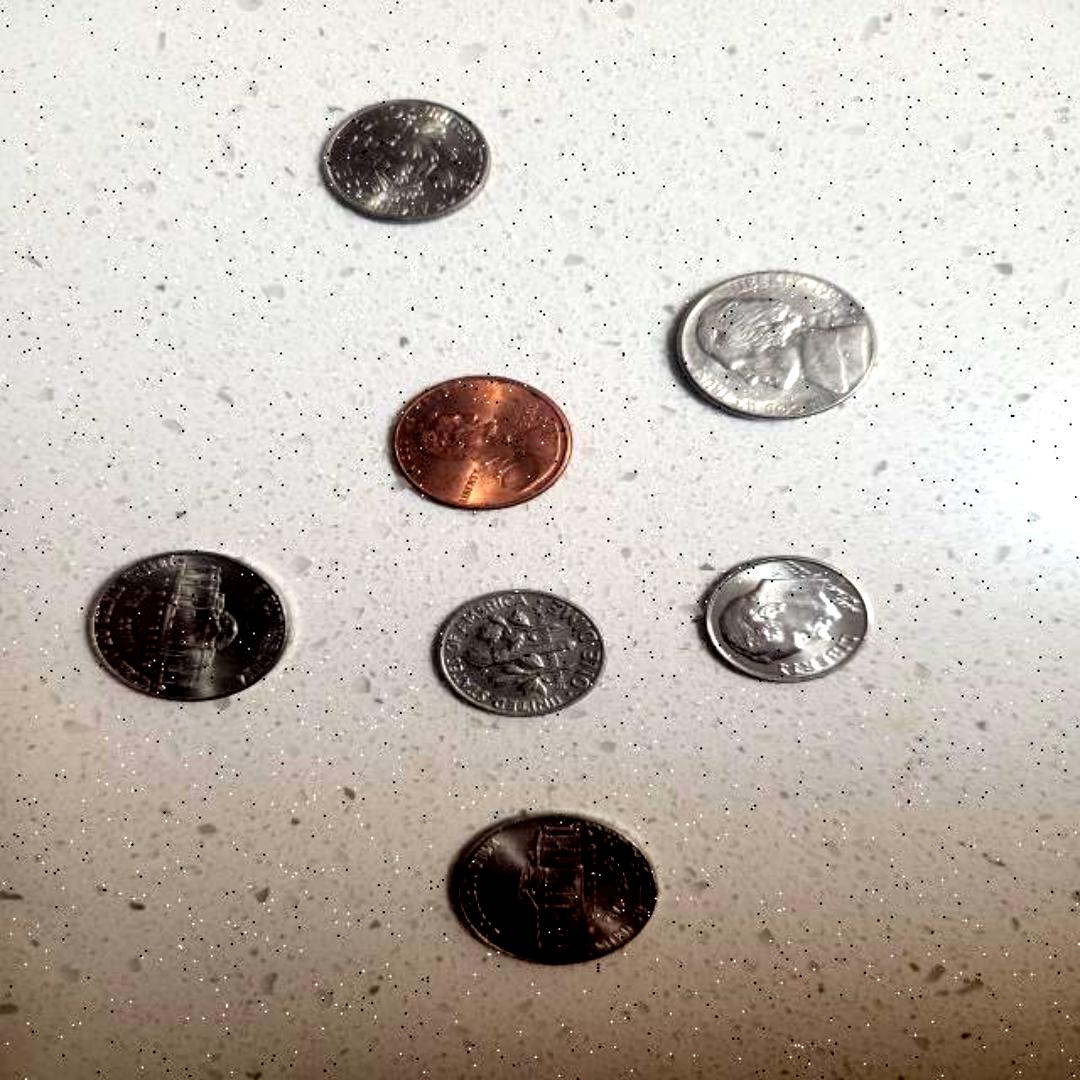Dime: (319, 89, 497, 227), (694, 554, 880, 686), (430, 589, 617, 717)
Nickel: (448, 808, 670, 972), (667, 260, 881, 424), (86, 546, 291, 704)
Penny: (386, 372, 584, 514)
